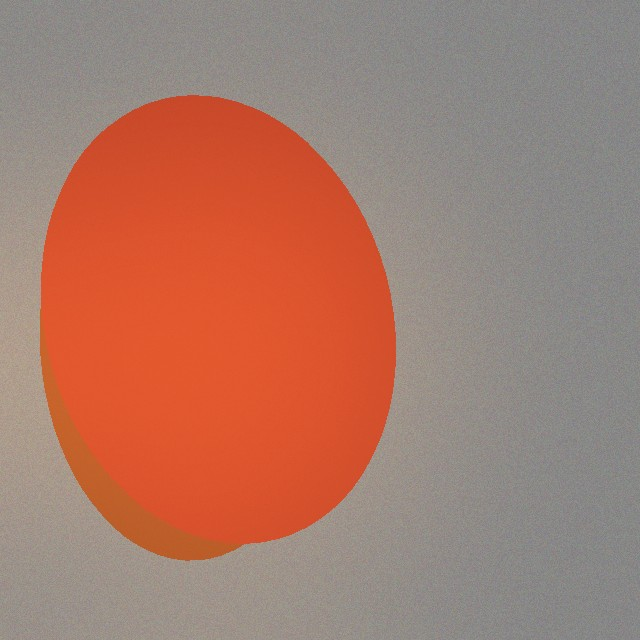fire: (99, 209, 325, 509)
